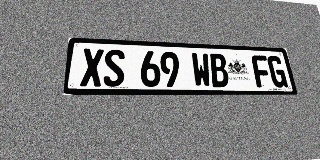6: (140, 51, 161, 87)
9: (160, 51, 181, 87)
B: (208, 53, 230, 87)
F: (251, 55, 273, 87)
G: (266, 56, 288, 88)
S: (103, 49, 125, 87)
W: (191, 53, 212, 87)
X: (80, 48, 104, 87)
